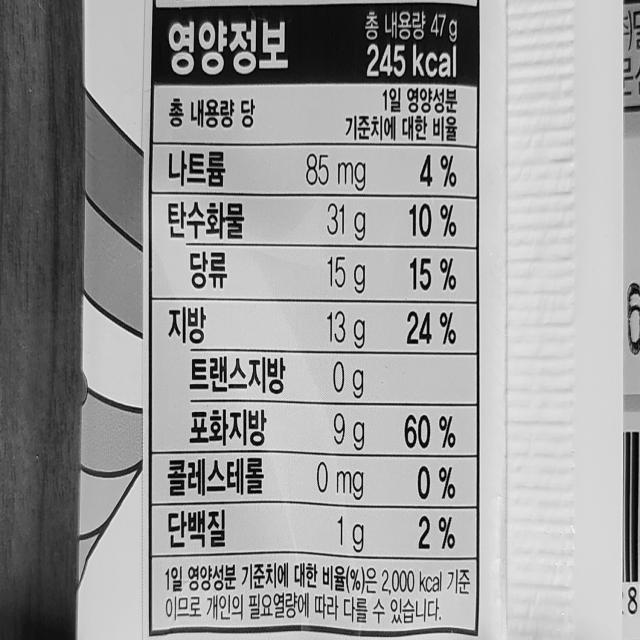Nutrition Label: (147, 0, 487, 640)
